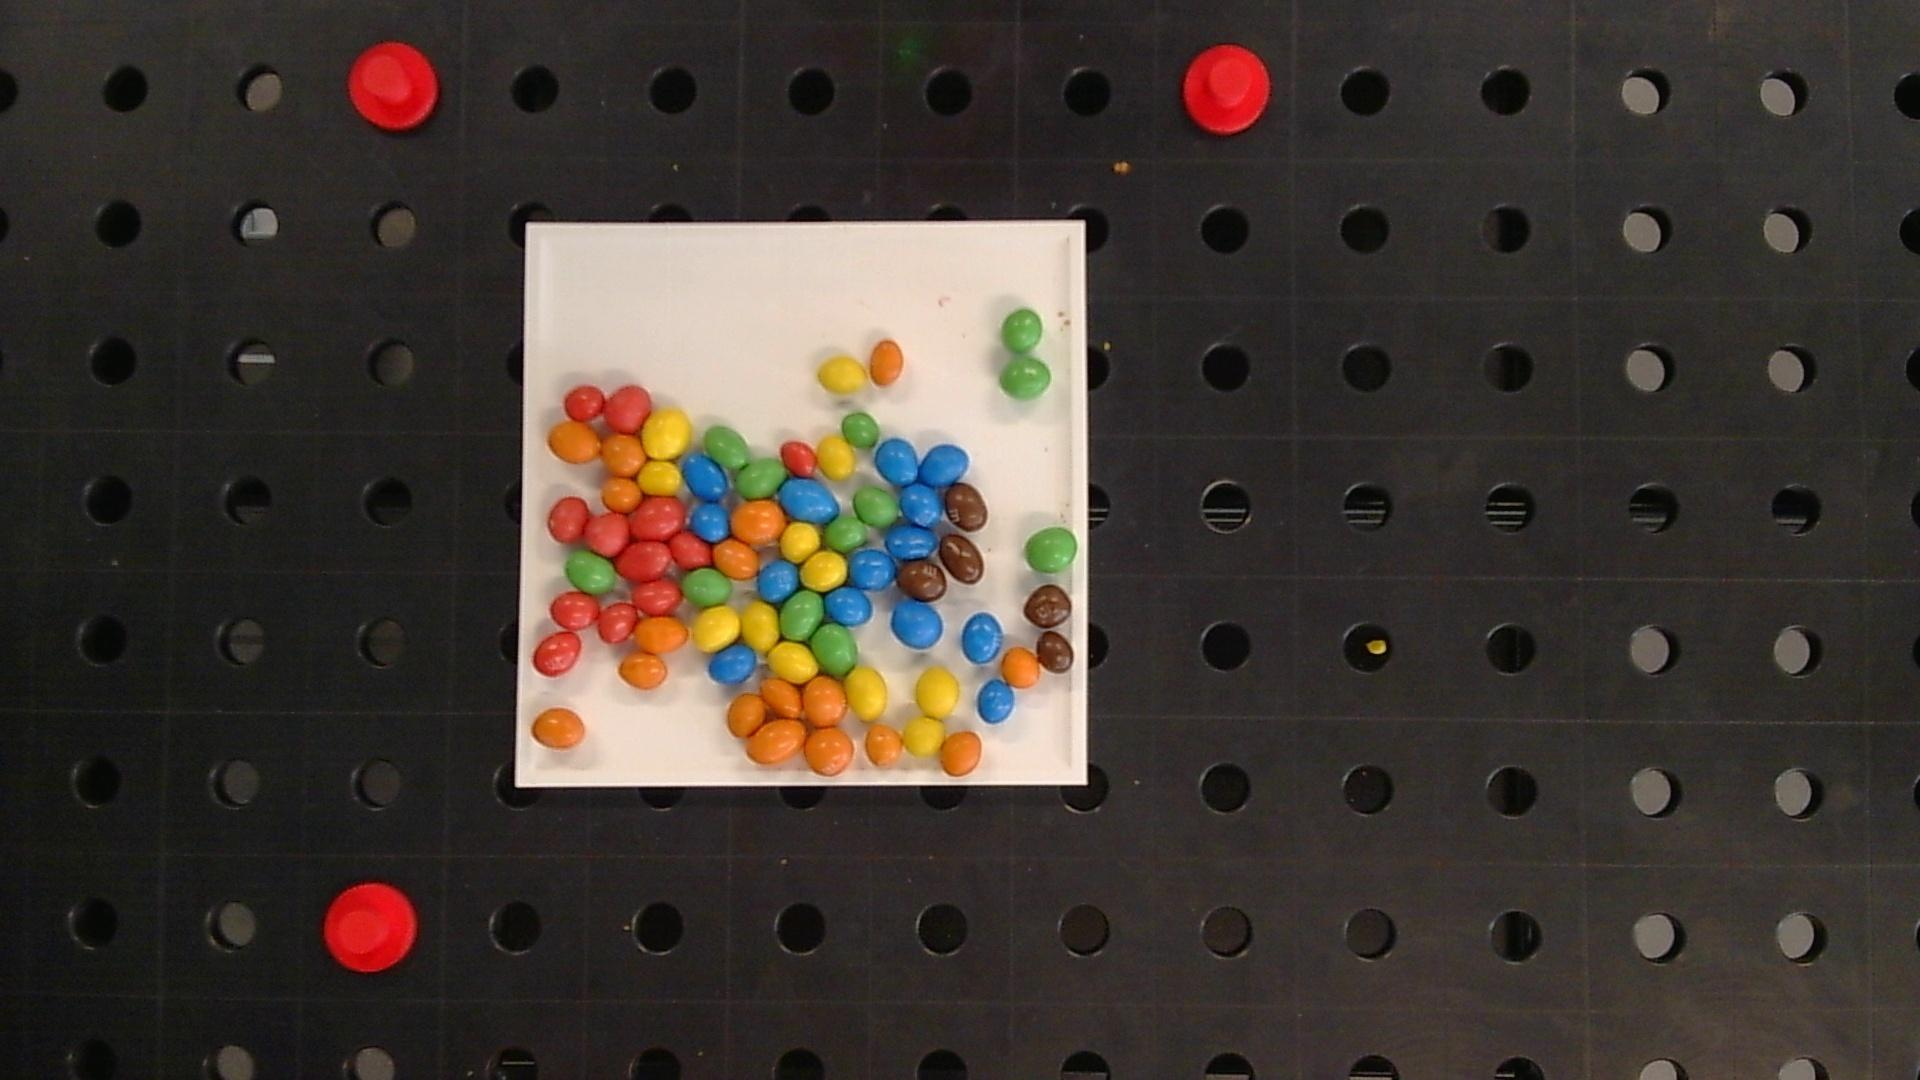blue: (886, 525, 945, 599), (890, 600, 944, 649), (781, 479, 840, 522), (963, 613, 1004, 663), (919, 444, 969, 485), (683, 455, 728, 500), (876, 439, 919, 484), (849, 550, 897, 591), (708, 645, 758, 683), (901, 484, 942, 527), (825, 588, 873, 625), (758, 559, 799, 601), (885, 526, 935, 559), (978, 679, 1014, 723), (688, 504, 729, 539)
brown: (939, 535, 984, 584), (1023, 584, 1072, 628), (945, 483, 988, 531), (898, 560, 945, 600), (1036, 630, 1073, 673)
green: (1025, 527, 1077, 572), (812, 624, 858, 674), (566, 550, 616, 593), (1000, 357, 1051, 400), (779, 591, 823, 640), (736, 458, 786, 497), (683, 568, 732, 607), (1001, 310, 1043, 353), (704, 426, 749, 467), (853, 488, 898, 527), (824, 514, 866, 551), (841, 413, 880, 447)
orange: (746, 719, 806, 764), (804, 728, 855, 774), (733, 501, 785, 543), (531, 708, 585, 748), (549, 422, 600, 463), (803, 678, 847, 725), (940, 732, 982, 777), (634, 617, 688, 651), (601, 434, 645, 475), (713, 539, 760, 578), (727, 692, 766, 736), (620, 653, 667, 688), (864, 725, 903, 766), (1001, 647, 1040, 687), (761, 678, 802, 716), (870, 340, 903, 384), (601, 477, 641, 510)
red: (632, 497, 684, 538), (617, 542, 670, 582), (533, 633, 582, 675), (605, 385, 650, 430), (547, 497, 589, 542), (587, 513, 629, 555), (551, 592, 599, 628), (633, 579, 680, 615), (597, 603, 637, 642), (564, 385, 605, 421), (670, 531, 711, 567), (781, 440, 816, 476)
yellow: (642, 410, 691, 458), (845, 667, 887, 721), (915, 667, 960, 717), (692, 607, 740, 651), (770, 644, 819, 682), (818, 356, 866, 393), (741, 601, 778, 650), (802, 551, 847, 591), (816, 435, 856, 479), (903, 717, 944, 756), (779, 524, 820, 560), (640, 462, 680, 495)
